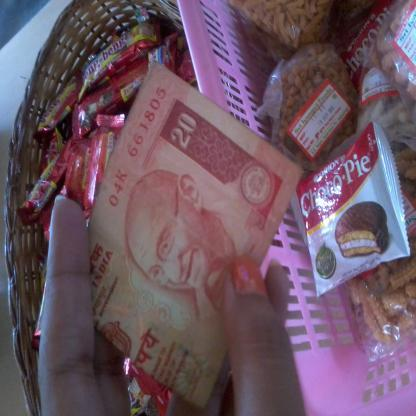Old20Front: (83, 72, 280, 407)
